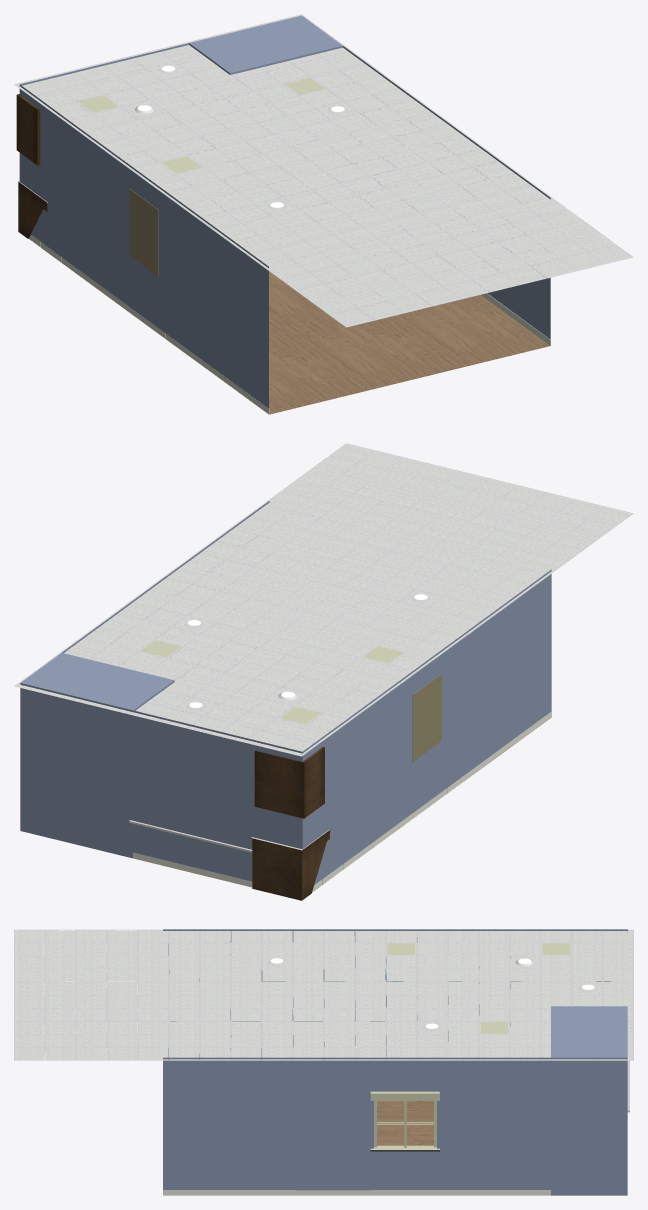
The model's file is office-transformed.glb.
The picture shows the model from 3 angles, top to bottom: view 1: azimuth 30°, elevation 25°; view 2: azimuth 150°, elevation 25°; view 3: azimuth 270°, elevation 25°; orthographic projection. The views are drawn at different scales.
Visible parts, largest first — view 1: Cube; view 2: Cube; view 3: Cube.
Boxes of the visible parts, x1=… form: Cube: x1=14, y1=14, x2=633, y2=414; Cube: x1=14, y1=443, x2=633, y2=900; Cube: x1=14, y1=929, x2=633, y2=1195.
Size of the model in its own units: 4.31 by 2.12 by 8.59.
Materials: 13 (13 with a texture image).
